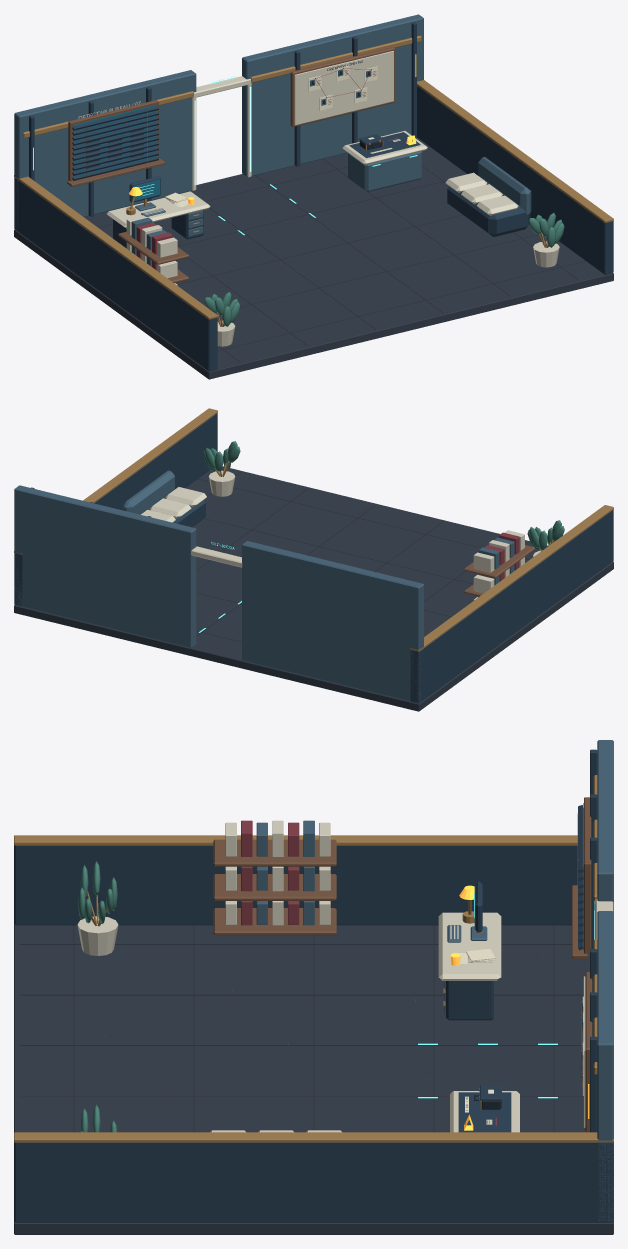
The model's file is office.glb.
3 views of the same model, one above another, from view 1: azimuth 30°, elevation 25°; view 2: azimuth 150°, elevation 25°; view 3: azimuth 270°, elevation 25° (orthographic). The views are drawn at different scales.
Parts seen in each view (by area): view 1: office_architecture; view 2: office_architecture; view 3: office_architecture.
Boxes of the visible parts, x1,y1,x2,y2 form: office_architecture: (14,14,613,379); office_architecture: (14,408,613,711); office_architecture: (14,740,613,1234).
Bounding box in the file's own units: 12 × 3.52 × 10.
